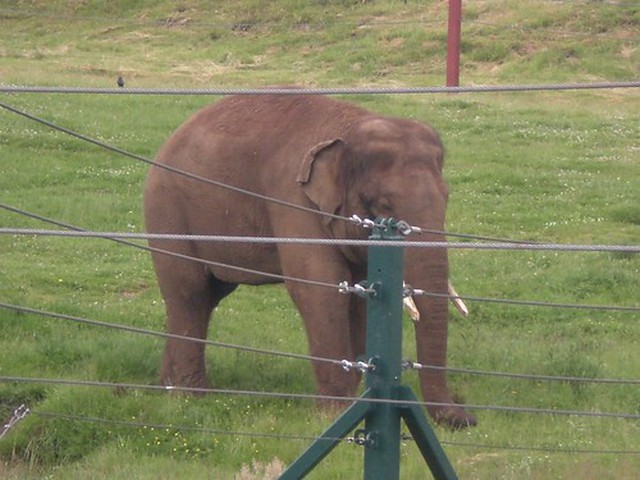Elephant: (140, 83, 484, 428)
